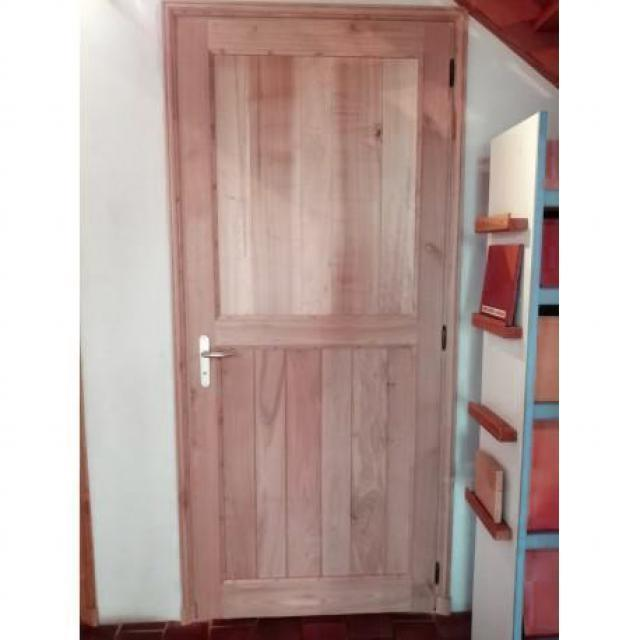door: (162, 2, 462, 623)
